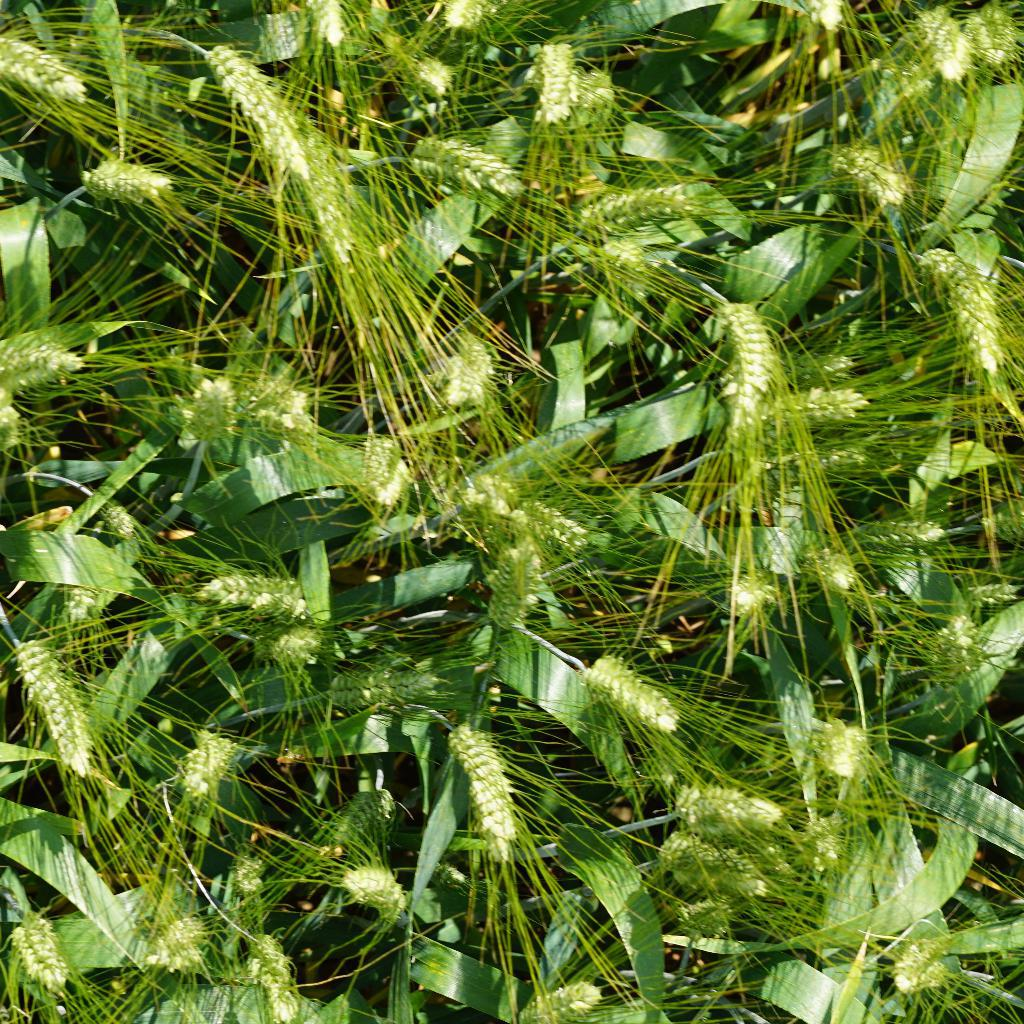0-0: (915, 234, 1023, 389), (186, 34, 307, 172), (11, 627, 101, 796), (444, 714, 542, 854), (705, 290, 787, 452), (579, 645, 698, 750), (579, 160, 724, 236), (651, 817, 774, 901), (186, 553, 321, 628), (384, 131, 520, 201), (0, 18, 103, 110), (287, 150, 366, 269), (160, 706, 250, 808), (62, 145, 189, 217), (240, 361, 328, 452), (0, 897, 85, 991), (318, 658, 444, 721), (0, 329, 88, 415), (328, 848, 426, 923), (157, 352, 235, 445), (242, 926, 316, 1024), (432, 460, 526, 537), (914, 609, 997, 695), (337, 417, 419, 504), (807, 709, 890, 793), (436, 320, 507, 418), (504, 967, 626, 1024), (657, 777, 787, 830), (823, 144, 918, 215), (481, 530, 539, 642), (321, 779, 405, 856), (773, 369, 879, 428), (258, 605, 340, 679), (524, 19, 580, 120), (907, 0, 976, 81), (953, 0, 1024, 78), (888, 926, 959, 1001), (597, 232, 677, 294), (145, 896, 204, 976), (718, 552, 780, 623), (944, 567, 1024, 621), (671, 884, 737, 942), (795, 826, 854, 890), (277, 0, 354, 49), (404, 45, 460, 112), (81, 496, 156, 546), (221, 849, 281, 911), (415, 0, 505, 38), (47, 575, 116, 624), (800, 539, 866, 590), (869, 512, 952, 552), (579, 67, 620, 124)
